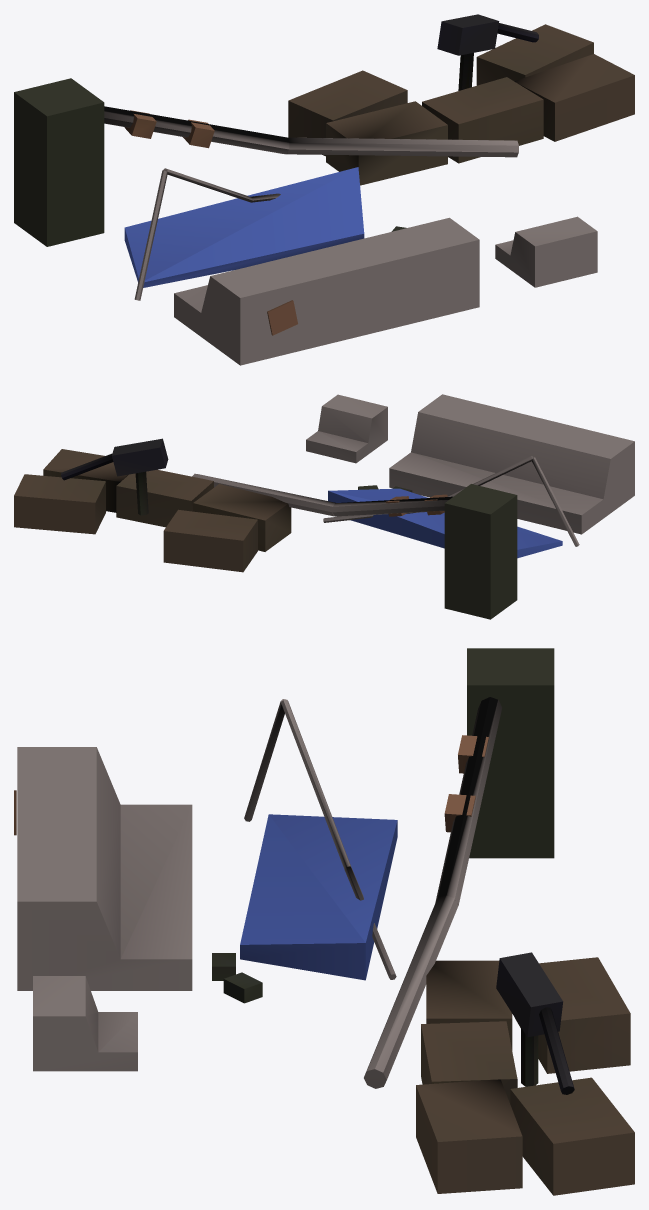
The model's file is decay.abandoned-checkpoint.lod1.glb.
3 views of the same model, one above another, from view 1: azimuth 30°, elevation 25°; view 2: azimuth 150°, elevation 25°; view 3: azimuth 270°, elevation 25° (orthographic). The views are drawn at different scales.
Parts seen in each view (by area): view 1: body; view 2: body; view 3: body.
Boxes of the visible parts, x1,y1,x2,y2 form: body: (14,14,634,365); body: (14,394,634,619); body: (14,648,634,1195).
Bounding box in the file's own units: 5.57 × 1.2 × 3.9.
